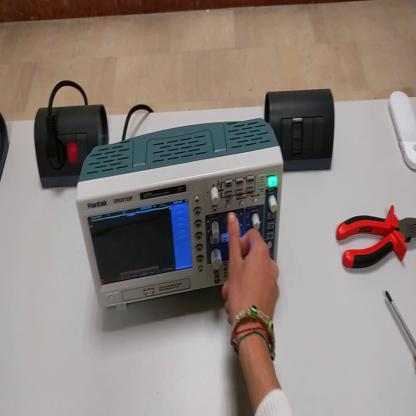hand: (223, 213, 280, 333)
oscilloscope: (76, 118, 283, 314)
pliers: (336, 206, 416, 272)
screwdriver-: (385, 287, 416, 360)
socket: (35, 107, 110, 191), (2, 113, 12, 177)
